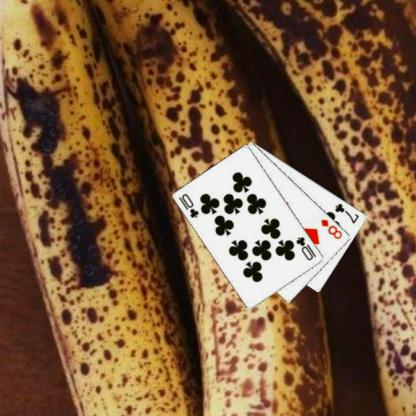10C: (293, 234, 317, 262), (176, 191, 200, 219)
7C: (332, 200, 361, 224)
8D: (318, 217, 344, 240)
